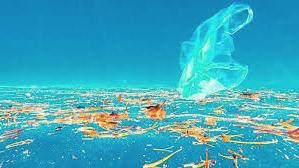Trash: (171, 3, 269, 109)
